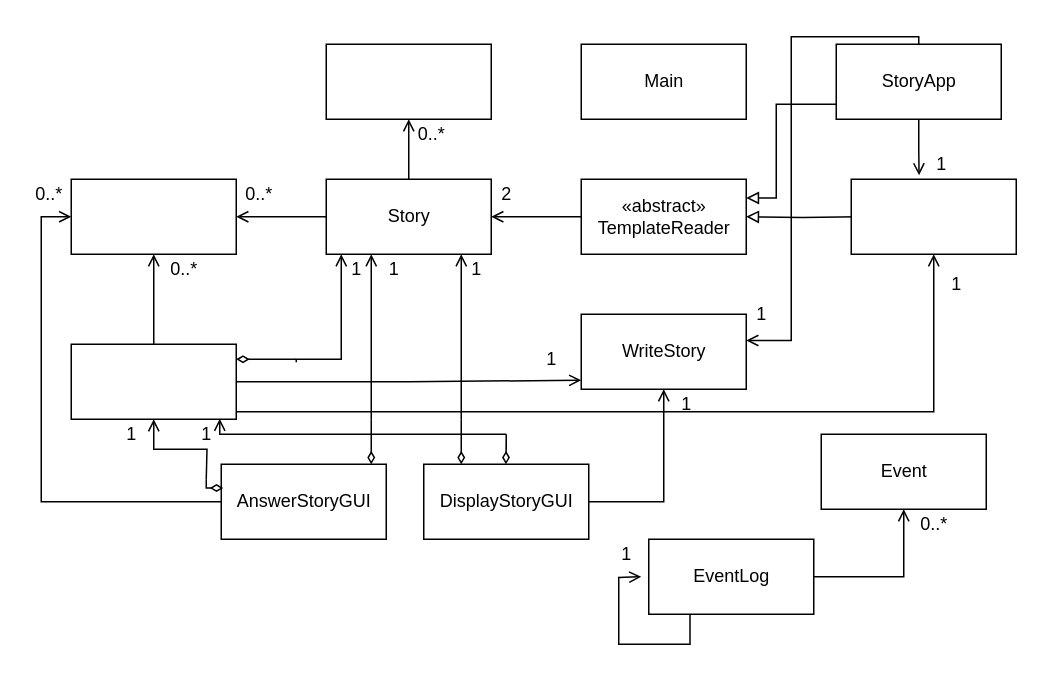
Some shapes in this 1043 by 683 pixel diagram are drawn without their labels. The centre of each missing label's shape, as x and y in pixels:
"Answer" belongs at (x=408, y=81).
"Prompt" belongs at (x=153, y=216).
"ReadStory" belongs at (x=933, y=216).
"StoryAppGUI" belongs at (x=153, y=381).
